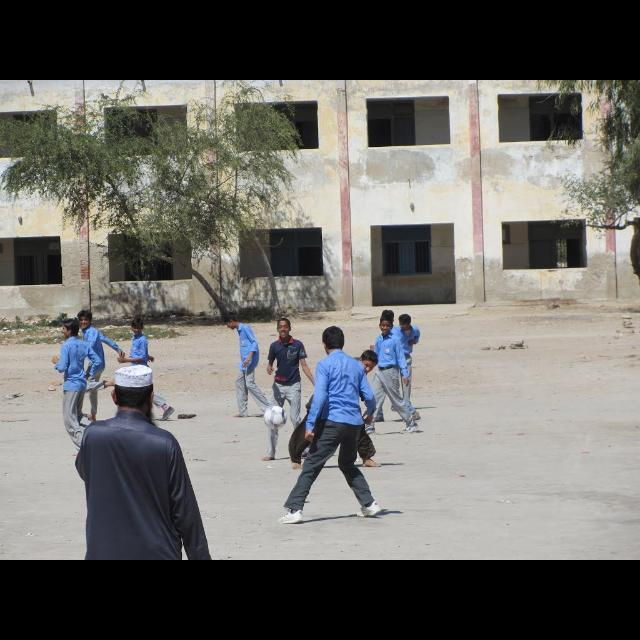head: (110, 376, 156, 414), (322, 326, 346, 356), (360, 350, 380, 376), (61, 318, 80, 339), (379, 316, 395, 336), (276, 318, 292, 338), (379, 318, 395, 336), (79, 311, 93, 329), (381, 310, 395, 326), (224, 314, 238, 330), (132, 318, 144, 336)
person: (276, 325, 384, 529), (287, 349, 381, 471), (262, 316, 321, 464), (52, 316, 104, 459), (360, 314, 420, 436), (70, 309, 126, 425), (116, 317, 176, 423), (223, 312, 277, 420), (369, 314, 421, 422), (375, 310, 403, 414)
